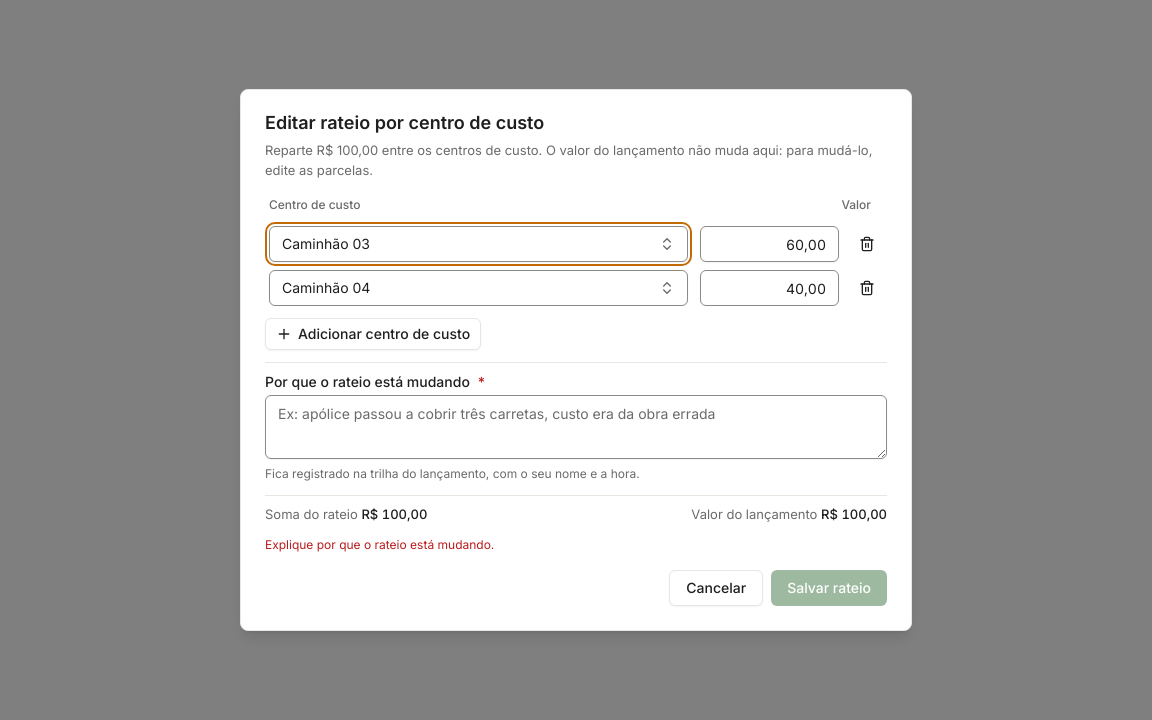
Test: DefinirRateioDialog › avisa quanto falta e não deixa salvar com a soma aberta
Replace the text in the text box labelled "Por que o rateio está mudando *" with "Apólice mudou" at coordinates (576, 427), box [265, 395, 887, 459]
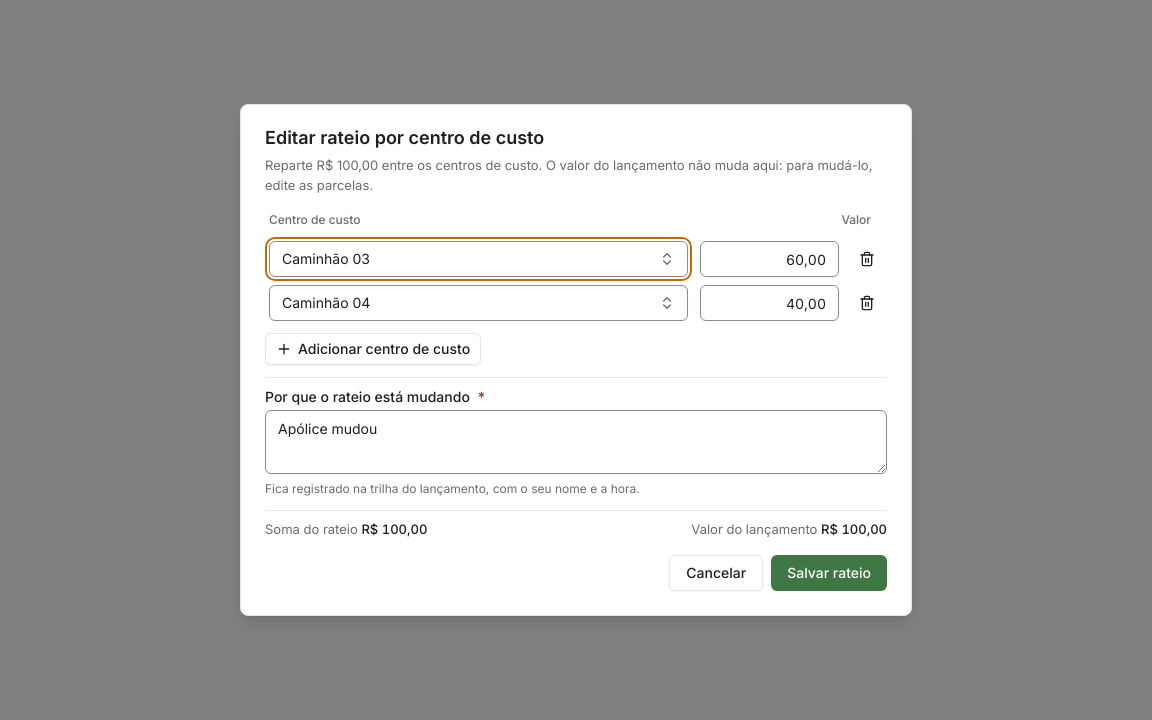
Replace the text in the field named "Valor do rateio 2" with "10,00" at coordinates (769, 303), box [700, 285, 839, 321]
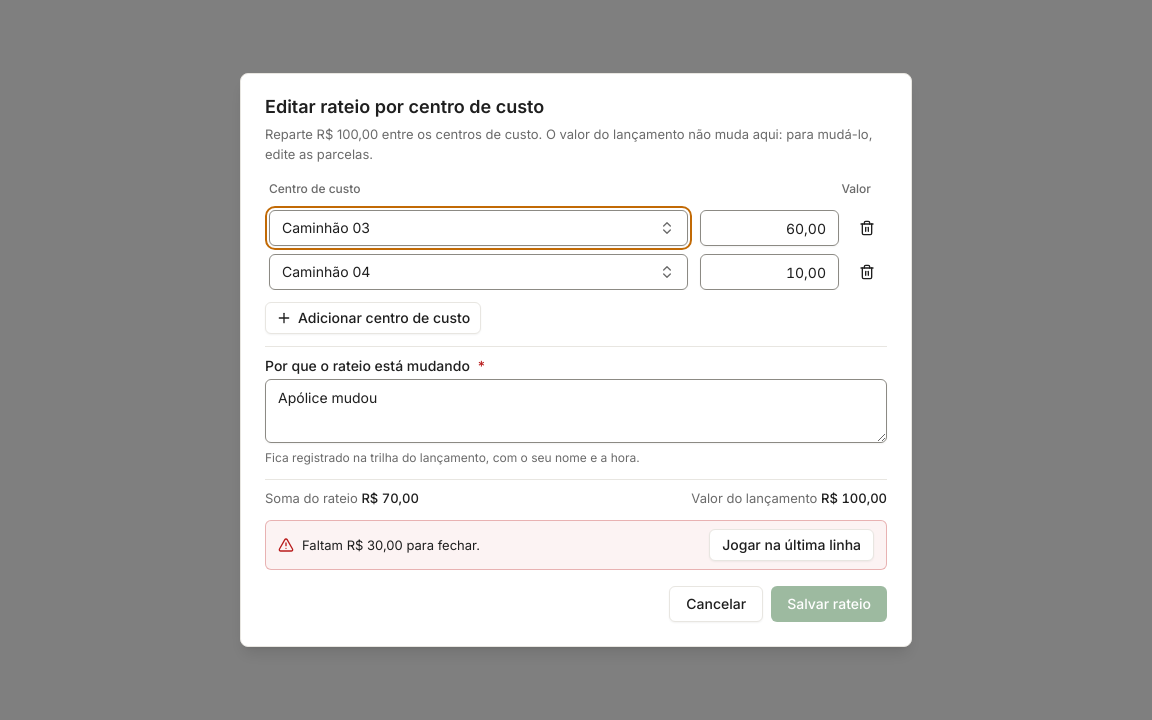
Now the button "Salvar rateio" is disabled, box [771, 586, 887, 622]
